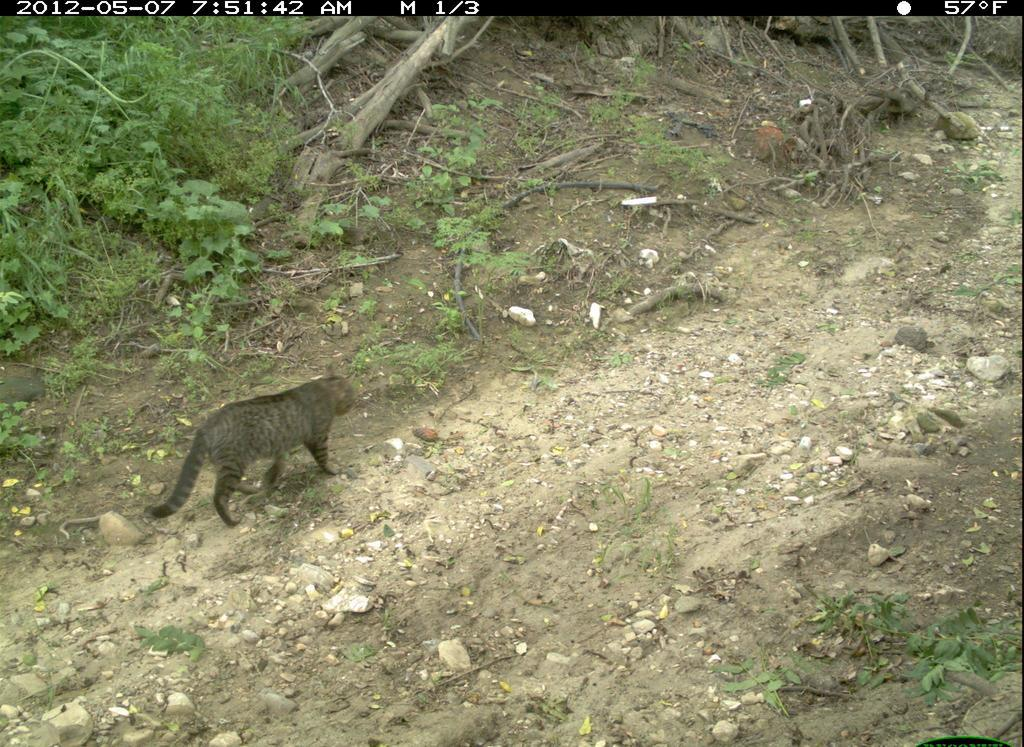cat: (155, 364, 368, 539)
